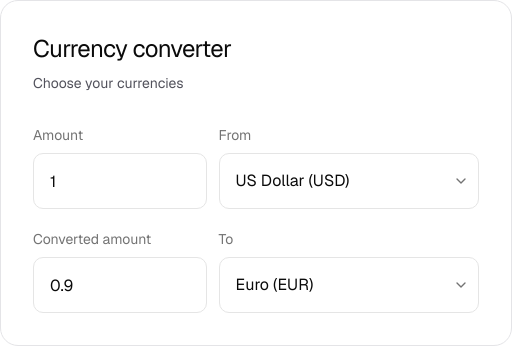
Test: currency converter › converts an entered amount into the selected currency
The image size is (529, 363).
Expected: the number field labelled "Converted amount" holds "0.9", [33,257,207,313]
Replace the text in the number field labelled "Amount" with "100" at (120, 181), box [33,153,207,209]
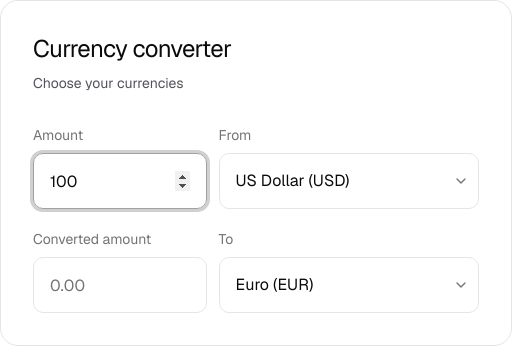
Select "Pound Sterling (GBP)" in the dropdown labelled "To" at (349, 285), box [219,257,479,313]
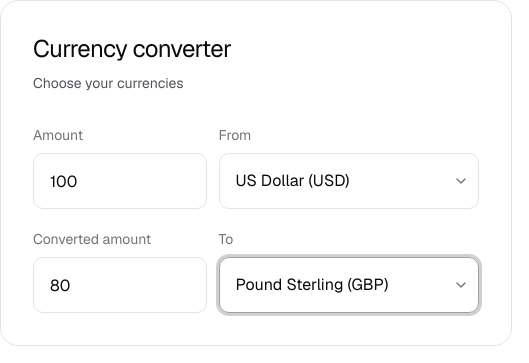
Now the number field labelled "Converted amount" holds "80", box [33,257,207,313]
